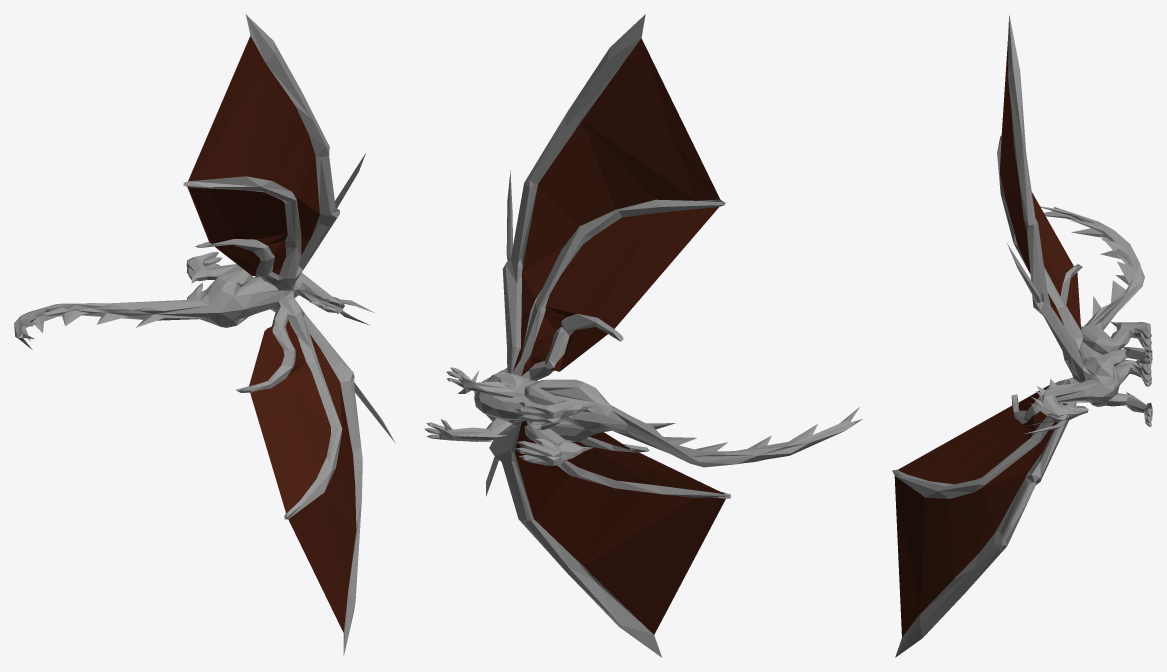
File: Dragon_2.5_For_Animations_000106.obj
3 renders of one model, left to right at view 1: azimuth 30°, elevation 25°; view 2: azimuth 150°, elevation 25°; view 3: azimuth 270°, elevation 25°, orthographic. The views are drawn at different scales.
Parts seen in each view (by area): view 1: Cube_Cube.004; view 2: Cube_Cube.004; view 3: Cube_Cube.004.
Boxes of the visible parts, x1=… form: Cube_Cube.004: x1=14, y1=14, x2=394, y2=656; Cube_Cube.004: x1=424, y1=14, x2=862, y2=657; Cube_Cube.004: x1=892, y1=15, x2=1152, y2=657.
Size of the model in its own units: 88.56 by 148 by 56.11.
